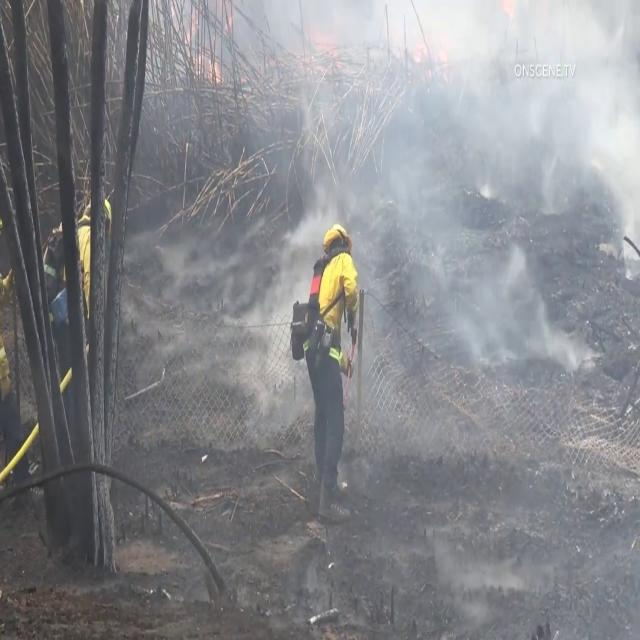Smoke: (283, 0, 639, 394)
